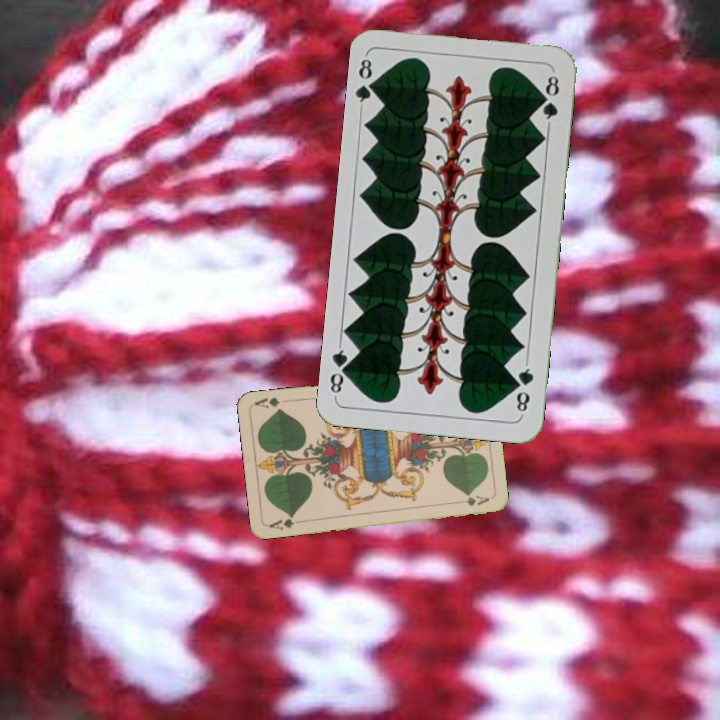G8: (352, 52, 381, 111), (511, 358, 537, 418)
GA: (265, 512, 305, 533)
